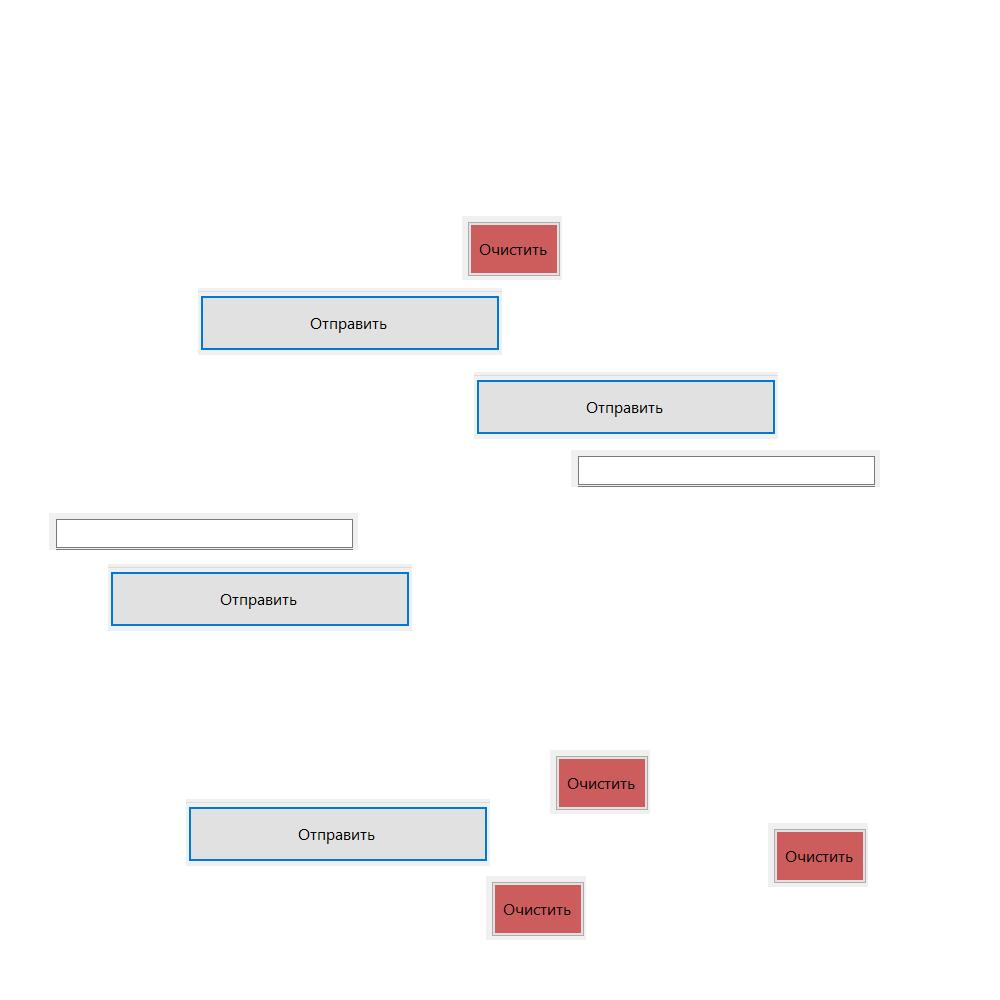Button: (198, 288, 502, 355), (108, 564, 412, 631), (474, 372, 778, 439), (186, 799, 490, 866), (486, 876, 586, 940), (462, 216, 562, 280), (550, 750, 650, 814), (768, 823, 868, 887)
EditText-: (571, 450, 880, 487), (49, 513, 358, 550)
